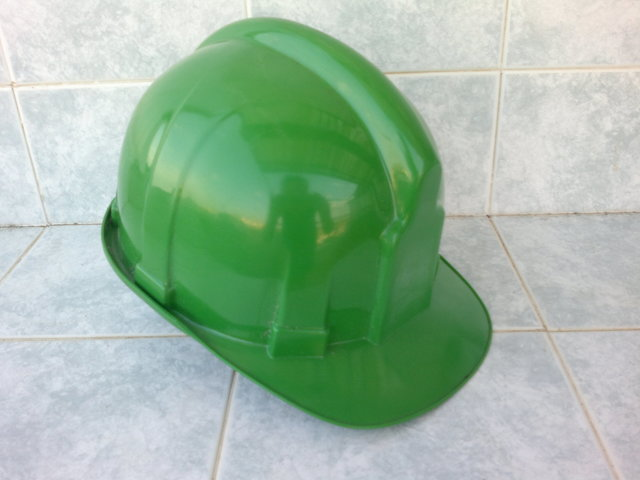casco: (96, 11, 495, 434)
